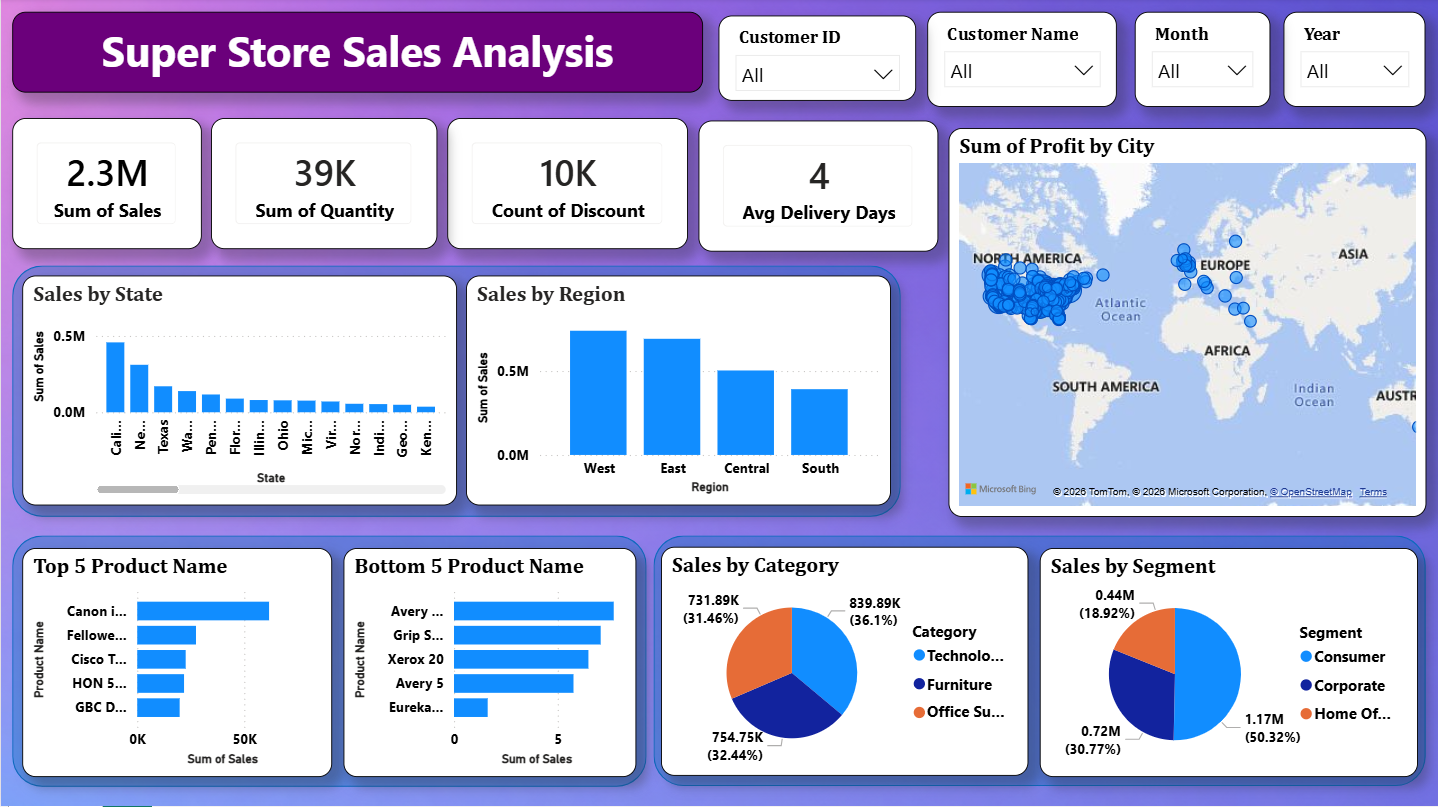

What the dashboard file says about the page in this screenshot:
{"tool":"powerbi","page":{"name":"Page 1","canvas":[1280,720],"ordinal":0},"visuals":[{"type":"textbox","box":[9.7,12.1,615.3,72.4],"z":0},{"type":"slicer","fields":{"Values":["Superstore_Cleaned.Year"]},"box":[1142.5,12.1,126.7,84.5],"z":1000},{"type":"slicer","fields":{"Values":["Superstore_Cleaned.Customer Name"]},"box":[825.2,12.1,168.9,84.5],"z":2000},{"type":"slicer","fields":{"Values":["Superstore_Cleaned.Month Name"]},"box":[1009.8,12.1,120.6,84.5],"z":3000},{"type":"cardVisual","fields":{"Data":["Sum(Superstore_Cleaned.Sales)"]},"box":[9.7,107.4,168.9,117],"z":4000},{"type":"cardVisual","fields":{"Data":["CountNonNull(Superstore_Cleaned.Discount)"]},"box":[396.9,107.4,214.7,117],"z":5000},{"type":"cardVisual","fields":{"Data":["Sum(Superstore_Cleaned.Quantity)"]},"box":[187,107.4,201.5,117],"z":6000},{"type":"cardVisual","fields":{"Data":["Avg(Superstore_Cleaned.Average Delivery Days)"]},"box":[621.3,108.6,213.5,117],"z":7000},{"type":"shape","box":[10,238.8,791.2,223.8],"z":8000},{"type":"shape","box":[10,478.8,565,223.8],"z":9000},{"type":"shape","box":[581.5,479,687.7,223.2],"z":10000},{"type":"columnChart","title":" Sales by State","fields":{"Y":["Sum(Superstore_Cleaned.Sales)"],"Category":["Superstore_Cleaned.State/Province"]},"box":[18.8,247.5,387.5,205],"z":11000},{"type":"columnChart","title":" Sales by Region","fields":{"Y":["Sum(Superstore_Cleaned.Sales)"],"Category":["Superstore_Cleaned.Region"]},"box":[413.8,247.5,378.8,205],"z":12000},{"type":"pieChart","title":" Sales by Category","fields":{"Y":["Sum(Superstore_Cleaned.Sales)"],"Category":["Superstore_Cleaned.Category"]},"box":[587.5,488.6,326.9,203.9],"z":13000},{"type":"pieChart","title":" Sales by Segment","fields":{"Y":["Sum(Superstore_Cleaned.Sales)"],"Category":["Superstore_Cleaned.Segment"]},"box":[925.3,489.8,336.6,203.9],"z":14000},{"type":"barChart","title":"Top 5 Product Name","fields":{"Category":["Superstore_Cleaned.Product Name"],"Y":["Sum(Superstore_Cleaned.Sales)"]},"box":[19.3,489.8,276.3,203.9],"z":15000},{"type":"barChart","title":"Bottom 5 Product Name","fields":{"Category":["Superstore_Cleaned.Product Name"],"Y":["Sum(Superstore_Cleaned.Sales)"]},"box":[305.2,489.8,260.6,203.9],"z":16000},{"type":"map","fields":{"Size":["Sum(Superstore_Cleaned.Profit)"],"Category":["Superstore_Cleaned.City"]},"box":[843.3,115.8,425.9,346.2],"z":17000},{"type":"slicer","fields":{"Values":["Superstore_Cleaned.Customer ID"]},"box":[639.4,15.7,176.1,76],"z":17001}]}

Visuals, with their boxes in screenshot pixels (x1, y1, x2, y2), scaled from the page's 1280x720 canvas onto the 1438x807 screenshot:
textbox: (x1=11, y1=14, x2=702, y2=95)
slicer - Superstore_Cleaned.Year: (x1=1284, y1=14, x2=1426, y2=108)
slicer - Superstore_Cleaned.Customer Name: (x1=927, y1=14, x2=1117, y2=108)
slicer - Superstore_Cleaned.Month Name: (x1=1134, y1=14, x2=1270, y2=108)
cardVisual - Sum(Superstore_Cleaned.Sales): (x1=11, y1=120, x2=201, y2=252)
cardVisual - CountNonNull(Superstore_Cleaned.Discount): (x1=446, y1=120, x2=687, y2=252)
cardVisual - Sum(Superstore_Cleaned.Quantity): (x1=210, y1=120, x2=436, y2=252)
cardVisual - Avg(Superstore_Cleaned.Average Delivery Days): (x1=698, y1=122, x2=938, y2=253)
shape: (x1=11, y1=268, x2=900, y2=518)
shape: (x1=11, y1=537, x2=646, y2=787)
shape: (x1=653, y1=537, x2=1426, y2=787)
" Sales by State" columnChart: (x1=21, y1=277, x2=456, y2=507)
" Sales by Region" columnChart: (x1=465, y1=277, x2=890, y2=507)
" Sales by Category" pieChart: (x1=660, y1=548, x2=1027, y2=776)
" Sales by Segment" pieChart: (x1=1040, y1=549, x2=1418, y2=778)
"Top 5 Product Name" barChart: (x1=22, y1=549, x2=332, y2=778)
"Bottom 5 Product Name" barChart: (x1=343, y1=549, x2=636, y2=778)
map - Sum(Superstore_Cleaned.Profit) x Superstore_Cleaned.City: (x1=947, y1=130, x2=1426, y2=518)
slicer - Superstore_Cleaned.Customer ID: (x1=718, y1=18, x2=916, y2=103)
